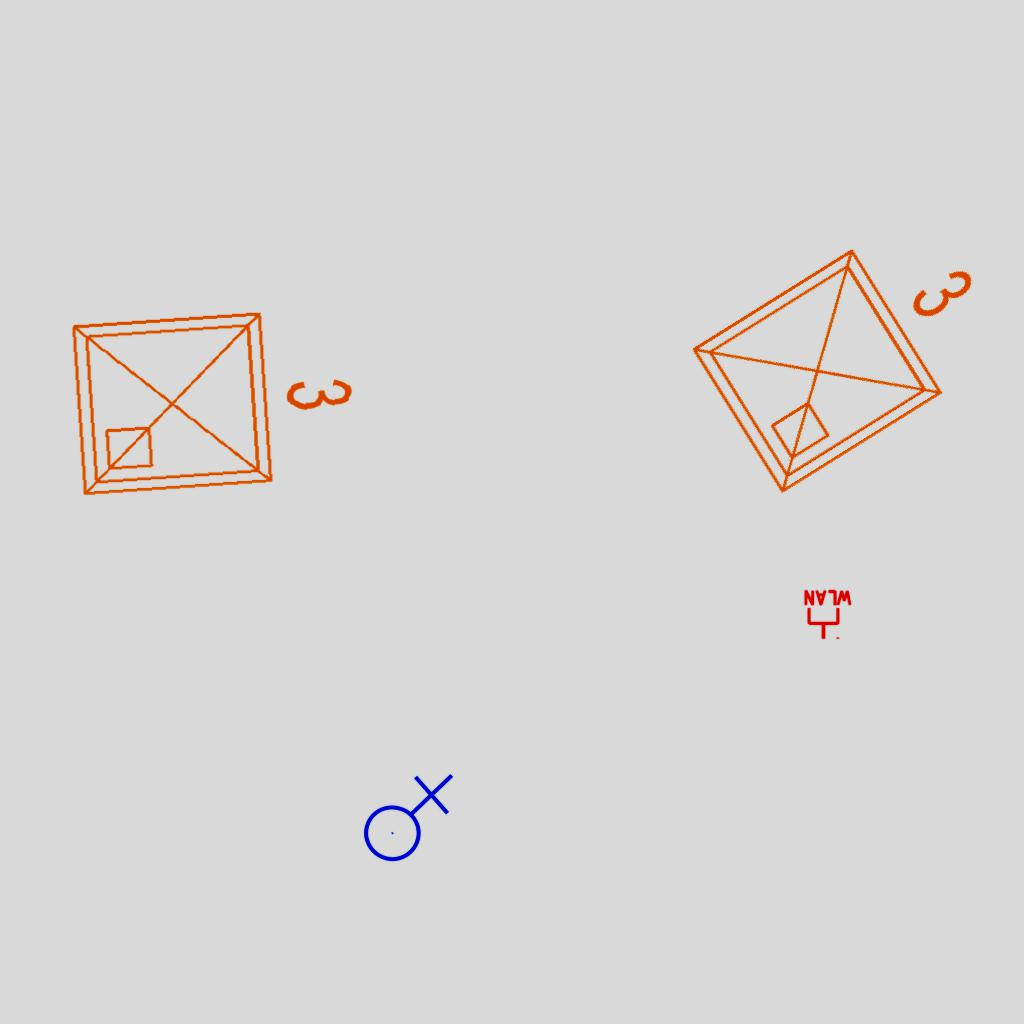Einbaudownlights_LED_Konferenzraeume: (667, 178, 1024, 514), (56, 282, 370, 512)
Elektroanschluss_allgemein_230V_Geraeteanschlussdose_230V: (355, 769, 454, 863)
WLAN: (802, 589, 854, 641)
